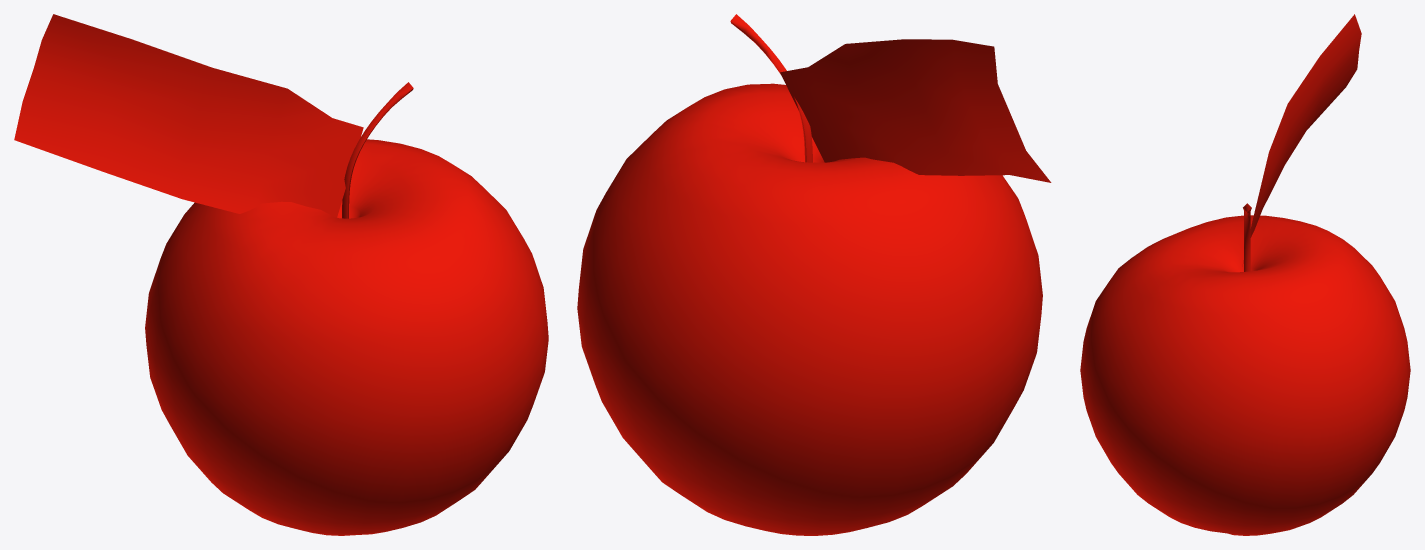
Rendered from AppleA.fbx.
3 views of the same model, side by side, from view 1: azimuth 30°, elevation 25°; view 2: azimuth 150°, elevation 25°; view 3: azimuth 270°, elevation 25° (orthographic). The views are drawn at different scales.
Parts seen in each view (by area): view 1: AppleA_singlematerial; view 2: AppleA_singlematerial; view 3: AppleA_singlematerial.
Boxes of the visible parts, bbox=[...] form: AppleA_singlematerial: bbox=[14, 14, 548, 535]; AppleA_singlematerial: bbox=[577, 14, 1051, 535]; AppleA_singlematerial: bbox=[1080, 14, 1410, 535].
Size of the model in its own units: 12.74 by 13.91 by 10.
